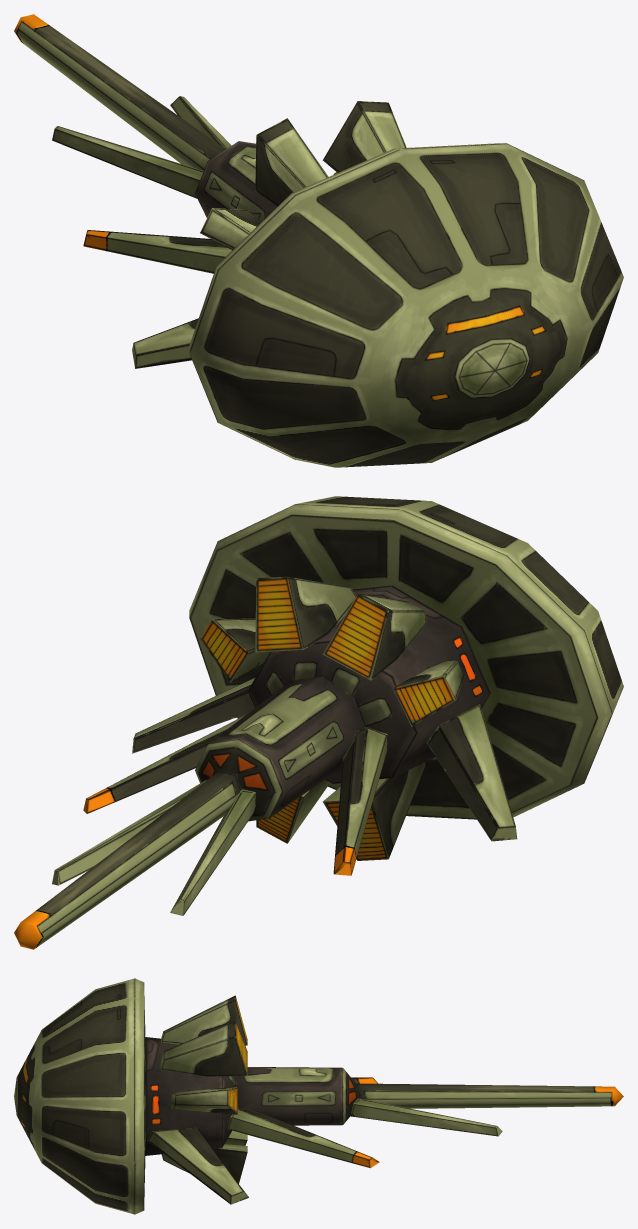
File: Ship_Enemy_04.FBX
3 views of the same model, one above another, from view 1: azimuth 30°, elevation 25°; view 2: azimuth 150°, elevation 25°; view 3: azimuth 270°, elevation 25° (orthographic). The views are drawn at different scales.
Visible parts, largest first — view 1: Ship_Enemy_04; view 2: Ship_Enemy_04; view 3: Ship_Enemy_04.
Boxes of the visible parts, left/top/right/bottom form: Ship_Enemy_04: left=14, top=14, right=623, bottom=467; Ship_Enemy_04: left=14, top=496, right=623, bottom=949; Ship_Enemy_04: left=14, top=978, right=623, bottom=1214.
Size of the model in its own units: 65.4 by 127 by 45.13.
